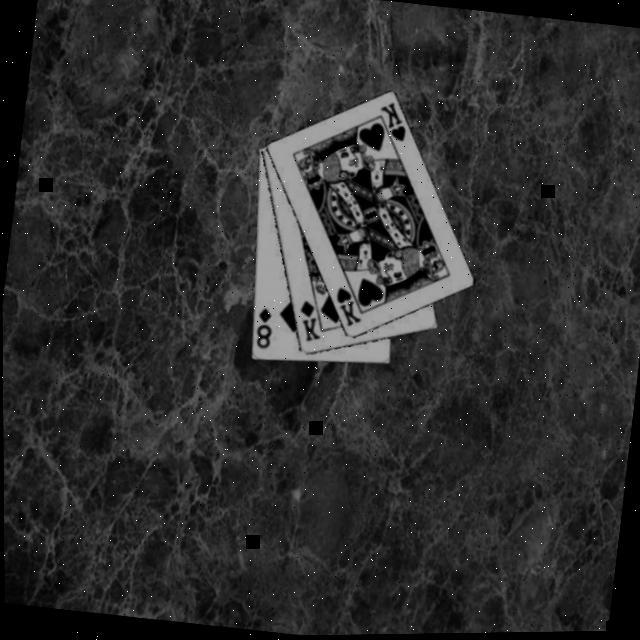8D: (253, 304, 278, 352)
KD: (294, 296, 328, 346)
KH: (374, 98, 413, 146), (331, 284, 369, 331)
